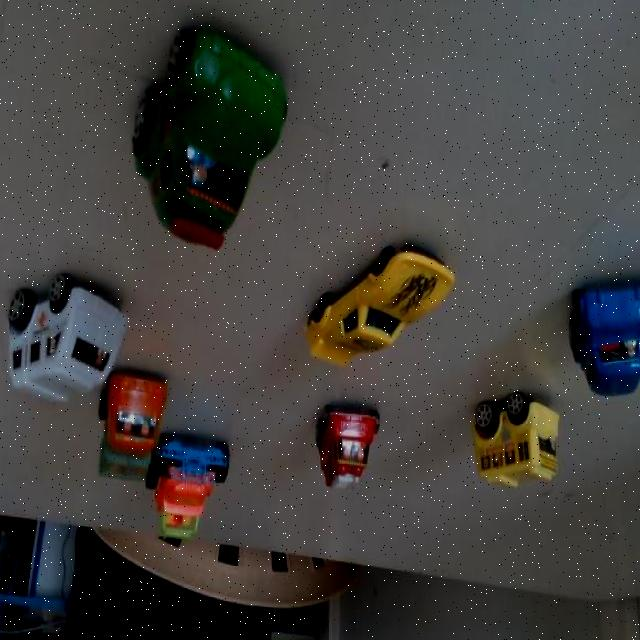car: (120, 35, 294, 246), (301, 236, 454, 377), (0, 260, 130, 420), (463, 383, 557, 491), (152, 439, 240, 550), (568, 271, 640, 400), (95, 368, 166, 492), (302, 390, 380, 501)
